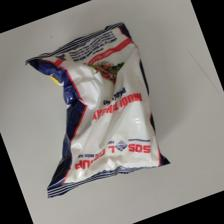Salt: (21, 19, 175, 201)
